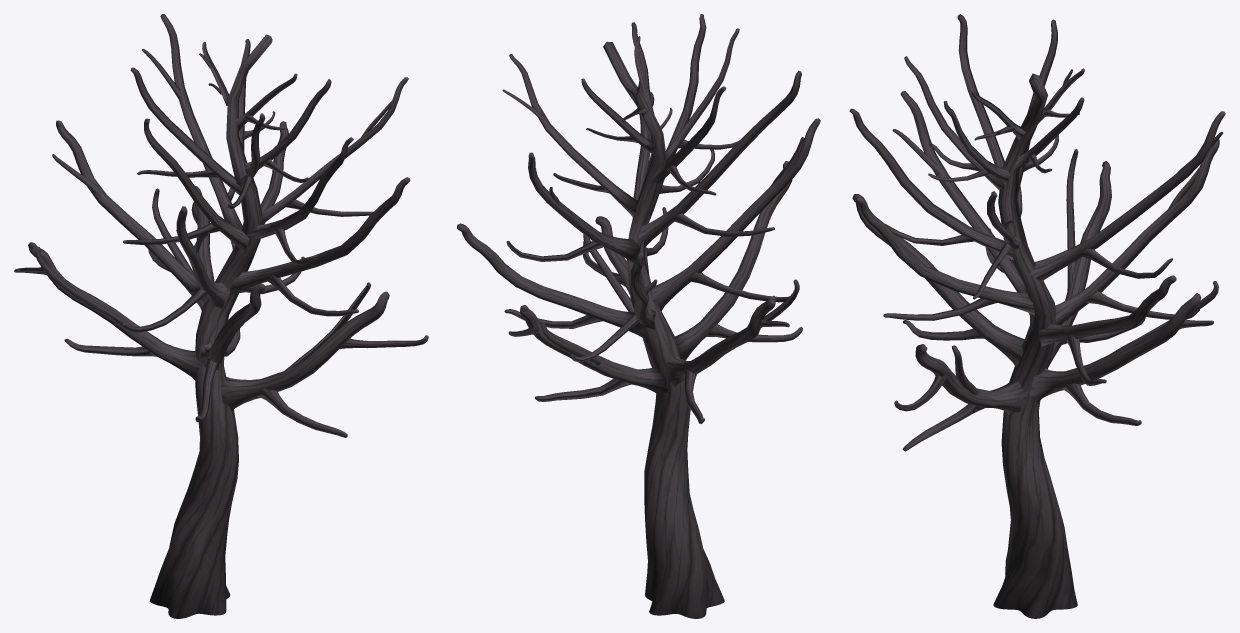
File: Dead_Tree_4.gltf
3 views of the same model, side by side, from view 1: azimuth 30°, elevation 25°; view 2: azimuth 150°, elevation 25°; view 3: azimuth 270°, elevation 25° (orthographic). The views are drawn at different scales.
Visible parts, largest first — view 1: DeadTree_1; view 2: DeadTree_1; view 3: DeadTree_1.
Part boxes in pixels (x1,y1,x2,y2): DeadTree_1: (14,14,428,618); DeadTree_1: (457,14,820,618); DeadTree_1: (849,14,1225,618).
Size of the model in its own units: 6.15 by 9.5 by 5.75.
1 material, 1 textured.
